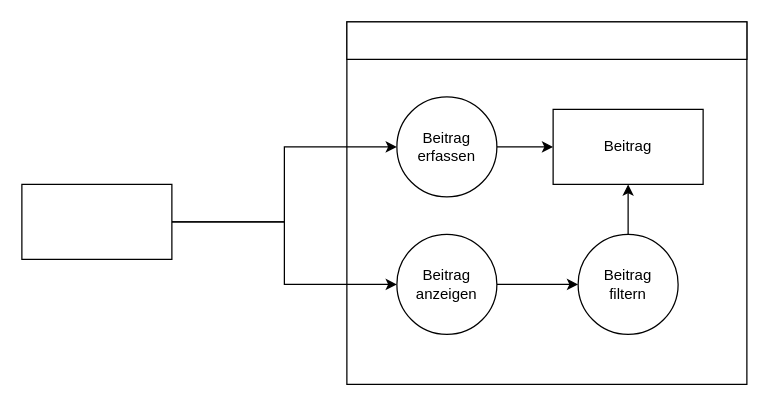
Image size: 769x406. Some labels were removed from this diagram. The shapes that lost their labels are listed below. From the top down, each one's box as (x1, y1, x2, y2) in pixels, then its label:
(346, 21, 747, 59): Pottum
(21, 183, 172, 259): User
